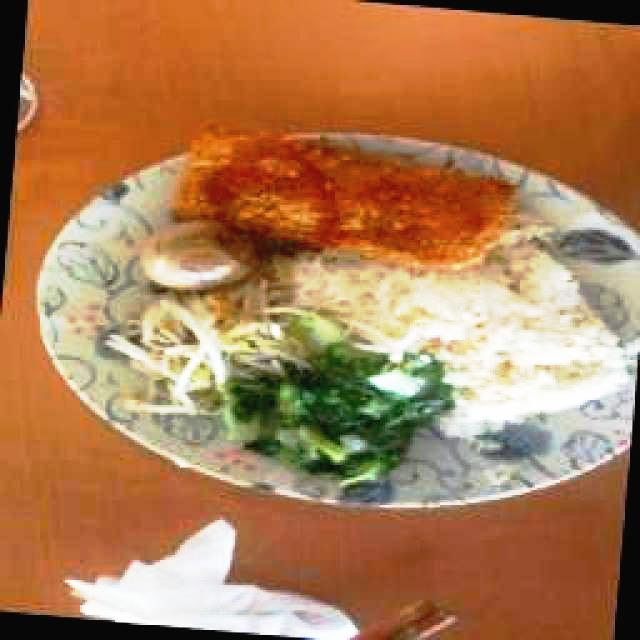Hashbrown: (172, 129, 517, 271)
mung_bean_sprouts: (111, 288, 280, 418)
rice: (281, 168, 628, 423)
water_spinach: (227, 302, 447, 491)
